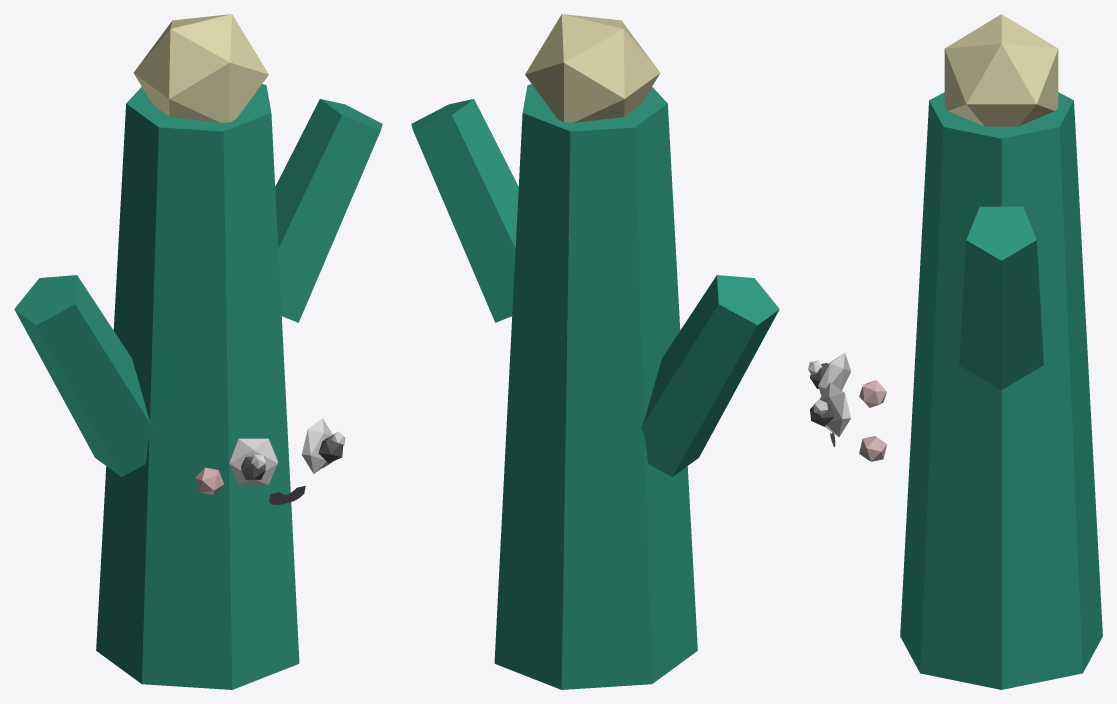
The model's file is opuntia-cochenillifera.glb.
The picture shows the model from 3 angles, left to right: view 1: azimuth 30°, elevation 25°; view 2: azimuth 150°, elevation 25°; view 3: azimuth 270°, elevation 25°; orthographic projection.
Visible parts, largest first — view 1: column, arm0, arm1, bloom, pface-eye-r, pface-eye-l, pface-blush--1; view 2: column, arm0, arm1, bloom; view 3: column, arm1, bloom, pface-eye-l, pface-eye-r, pface-blush-1, pface-blush--1.
Boxes of the visible parts, bbox=[...] form: column: bbox=[96, 84, 299, 689]; arm0: bbox=[14, 275, 152, 476]; arm1: bbox=[275, 99, 382, 322]; bloom: bbox=[134, 14, 268, 122]; pface-eye-r: bbox=[229, 438, 277, 485]; pface-eye-l: bbox=[301, 418, 332, 473]; pface-blush--1: bbox=[194, 467, 223, 494]; column: bbox=[494, 84, 697, 689]; arm0: bbox=[641, 275, 779, 476]; arm1: bbox=[411, 99, 518, 322]; bloom: bbox=[525, 14, 659, 122]; column: bbox=[900, 92, 1102, 689]; arm1: bbox=[959, 206, 1043, 389]; bloom: bbox=[944, 14, 1058, 126]; pface-eye-l: bbox=[820, 382, 850, 436]; pface-eye-r: bbox=[818, 353, 850, 395]; pface-blush-1: bbox=[859, 436, 886, 461]; pface-blush--1: bbox=[859, 380, 886, 407].
Size of the model in its own units: 0.2739 by 0.4583 by 0.1985.
